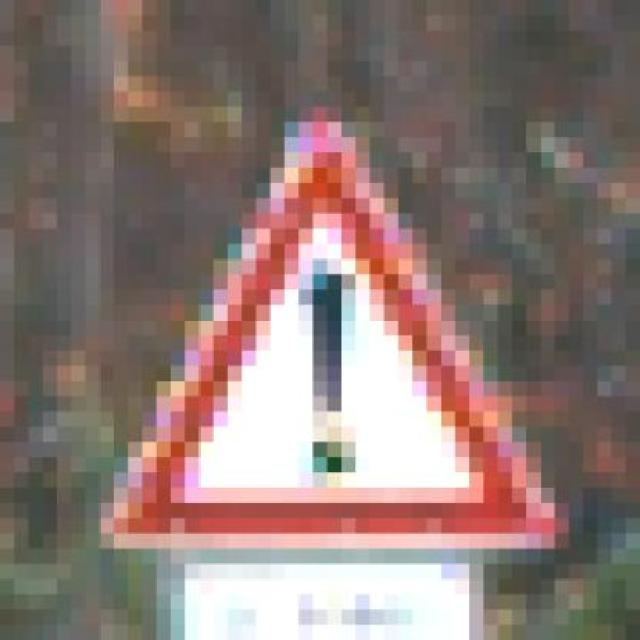Attention Please-: (85, 91, 569, 594)
